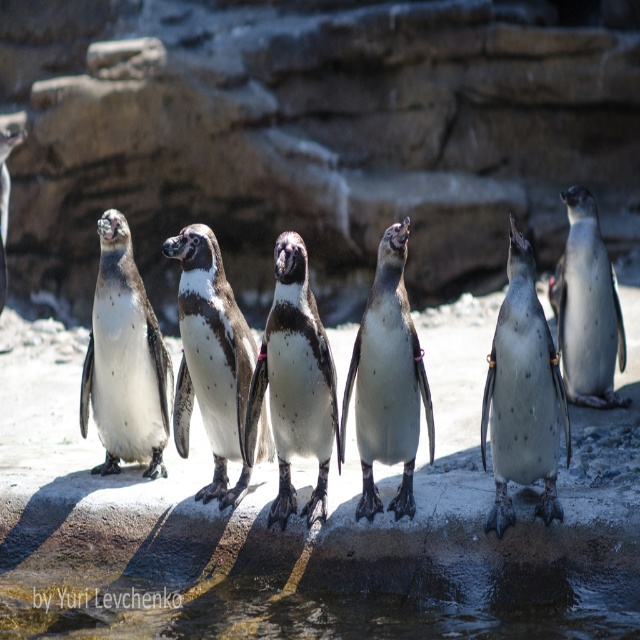Penguin: (71, 226, 174, 489)
